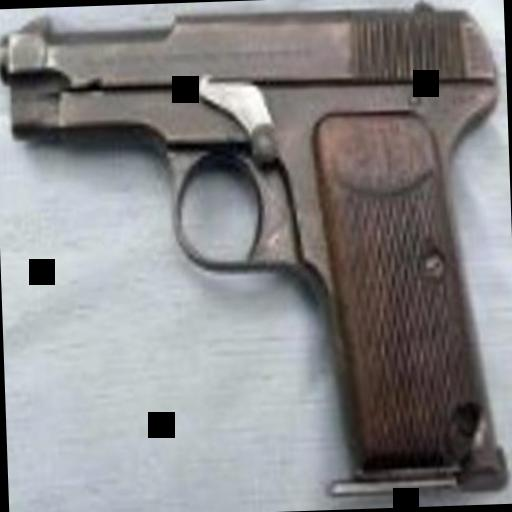Handgun: (0, 0, 506, 506)
